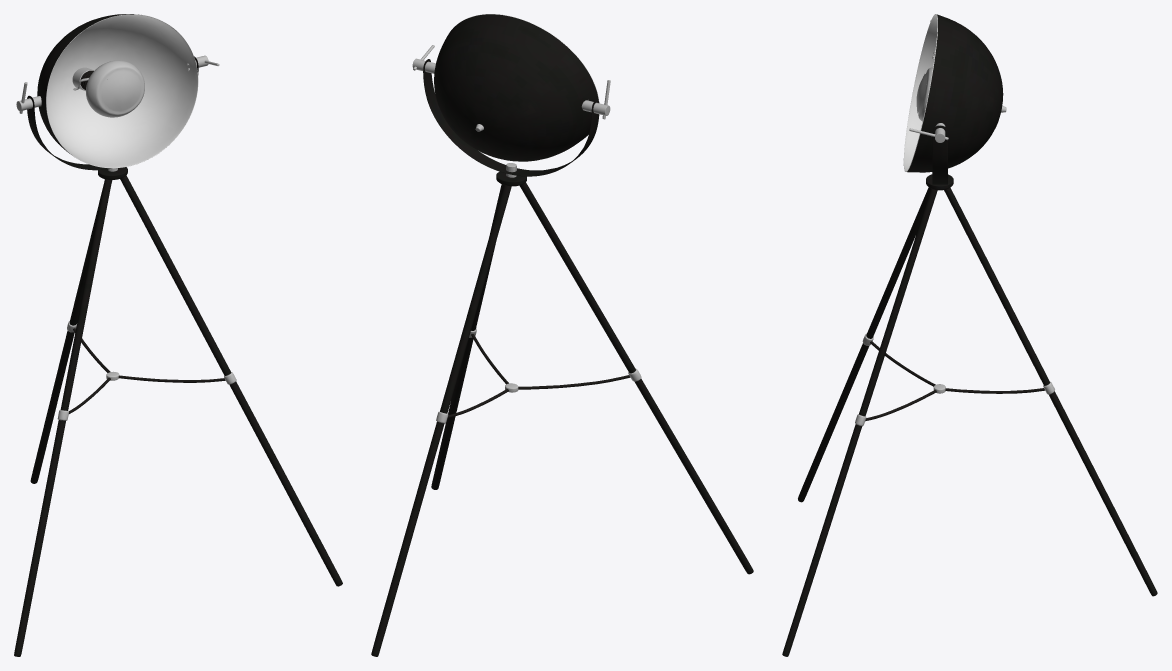
Rendered from abo-B075X2XYX1.glb.
3 views of the same model, side by side, from view 1: azimuth 30°, elevation 25°; view 2: azimuth 150°, elevation 25°; view 3: azimuth 270°, elevation 25° (orthographic). The views are drawn at different scales.
Size of the model in its own units: 0.92 by 1.51 by 0.92.
1 material, 1 textured.
